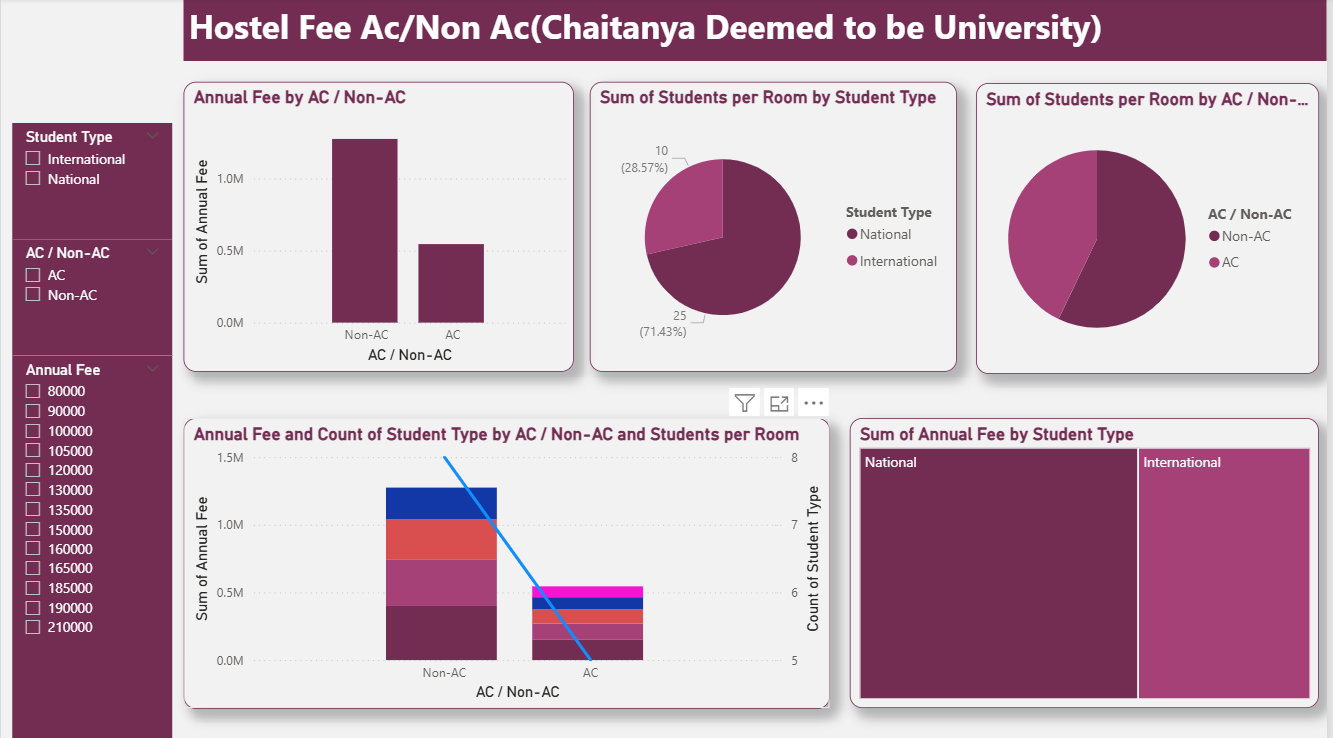

The page's visual inventory and layout, read from the dashboard file:
{"tool":"powerbi","page":{"name":"Hostel_Fee","canvas":[1280,720],"ordinal":3},"visuals":[{"type":"textbox","box":[176.7,0,1103.5,60.9],"z":0},{"type":"slicer","fields":{"Values":["Hostel_Fees.Student Type"]},"box":[10.5,120.5,154.5,112.3],"z":1000},{"type":"image","box":[22.1,0,143,120.9],"z":2000},{"type":"slicer","fields":{"Values":["Hostel_Fees.AC / Non-AC"]},"box":[10.5,232.9,154.5,112.3],"z":2001},{"type":"slicer","fields":{"Values":["Hostel_Fees.Annual Fee"]},"box":[10.5,345.2,154.5,374.5],"z":2002},{"type":"columnChart","title":"Annual Fee by AC / Non-AC","fields":{"Category":["Hostel_Fees.AC / Non-AC"],"Y":["Sum(Hostel_Fees.Annual Fee)"]},"box":[176.7,80.7,376.8,279.7],"z":2003},{"type":"pieChart","fields":{"Category":["Hostel_Fees.Student Type"],"Y":["Sum(Hostel_Fees.Students per Room)"]},"box":[568.7,80.7,354.6,279.7],"z":2004},{"type":"treemap","fields":{"Group":["Hostel_Fees.Student Type"],"Values":["Sum(Hostel_Fees.Annual Fee)"]},"box":[819.2,404.9,452.9,279.7],"z":2005},{"type":"lineStackedColumnComboChart","title":" Annual Fee and Count of Student Type by AC / Non-AC and Students per Room","fields":{"Category":["Hostel_Fees.AC / Non-AC"],"Y":["Sum(Hostel_Fees.Annual Fee)"],"Y2":["CountNonNull(Hostel_Fees.Student Type)"],"Series":["Hostel_Fees.Students per Room"]},"box":[176.7,404.9,623.7,280.9],"z":2006},{"type":"pieChart","fields":{"Category":["Hostel_Fees.AC / Non-AC"],"Y":["Sum(Hostel_Fees.Students per Room)"]},"box":[940.9,81.9,331.2,280.9],"z":2007}]}

Visuals, with their boxes in screenshot pixels (x1, y1, x2, y2), scaled from the page's 1280x720 canvas onto the 1333x738 screenshot:
textbox: <region>184, 0, 1332, 62</region>
slicer - Hostel_Fees.Student Type: <region>11, 124, 172, 239</region>
image: <region>23, 0, 172, 124</region>
slicer - Hostel_Fees.AC / Non-AC: <region>11, 239, 172, 354</region>
slicer - Hostel_Fees.Annual Fee: <region>11, 354, 172, 737</region>
"Annual Fee by AC / Non-AC" columnChart: <region>184, 83, 576, 369</region>
pieChart - Hostel_Fees.Student Type x Sum(Hostel_Fees.Students per Room): <region>592, 83, 962, 369</region>
treemap - Hostel_Fees.Student Type x Sum(Hostel_Fees.Annual Fee): <region>853, 415, 1325, 702</region>
" Annual Fee and Count of Student Type by AC / Non-AC and Students per Room" lineStackedColumnComboChart: <region>184, 415, 834, 703</region>
pieChart - Hostel_Fees.AC / Non-AC x Sum(Hostel_Fees.Students per Room): <region>980, 84, 1325, 372</region>
